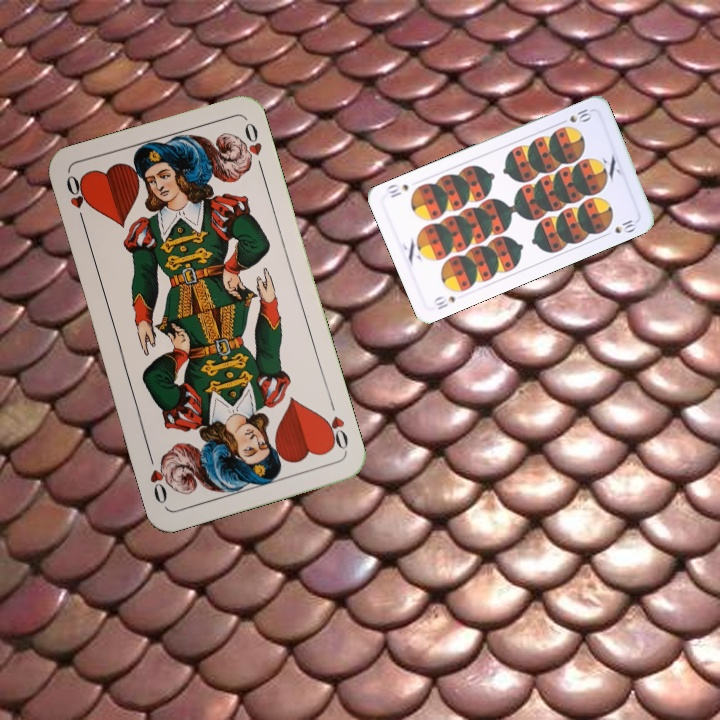HO: (319, 396, 351, 454), (62, 171, 89, 229)
S10: (555, 104, 595, 127), (430, 292, 458, 312)
